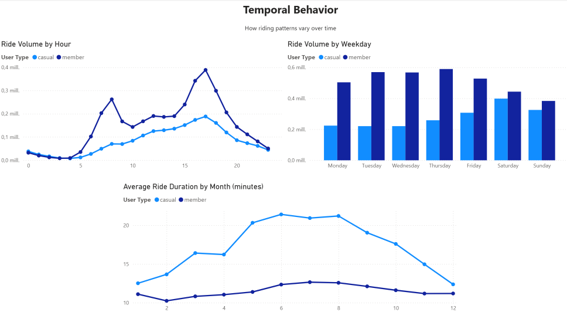

Layout of this report page (visuals, bound fields, positions):
{"tool":"powerbi","page":{"name":"Temporal Behaviour","canvas":[1280,720],"ordinal":1},"visuals":[{"type":"textbox","box":[287.9,0,727.7,89],"z":0},{"type":"lineChart","title":"Ride Volume by Hour","fields":{"Category":["rides_by_hour.hour"],"Y":["Sum(rides_by_hour.total_rides)"],"Series":["rides_by_hour.member_casual"]},"box":[0,89,640,299.7],"z":1000},{"type":"clusteredColumnChart","title":"Ride Volume by Weekday","fields":{"Y":["Sum(rides_by_weekday.total_rides)"],"Series":["rides_by_weekday.member_casual"],"Category":["rides_by_weekday.day_name"]},"box":[640,89,640,299.7],"z":2000},{"type":"lineChart","title":"Average Ride Duration by Month (minutes)","fields":{"Category":["rides_by_month.month"],"Y":["Sum(rides_by_month.avg_duration)"],"Series":["rides_by_month.member_casual"]},"box":[272.9,407,757.1,299.7],"z":3000}]}

Visuals, with their boxes in screenshot pixels (x1, y1, x2, y2), scaled from the page's 1280x720 canvas onto the 567x319 screenshot:
textbox: pyautogui.locateOnScreen(128, 0, 450, 39)
"Ride Volume by Hour" lineChart: pyautogui.locateOnScreen(0, 39, 284, 172)
"Ride Volume by Weekday" clusteredColumnChart: pyautogui.locateOnScreen(284, 39, 566, 172)
"Average Ride Duration by Month (minutes)" lineChart: pyautogui.locateOnScreen(121, 180, 456, 313)
